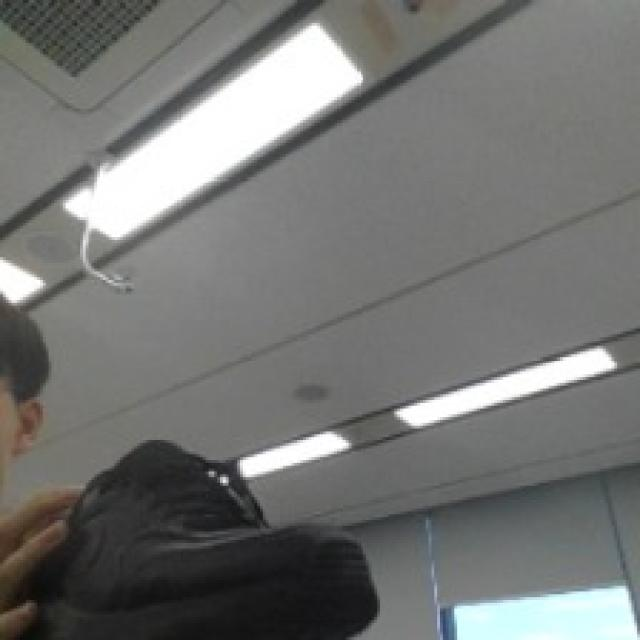shoe: (15, 409, 441, 640)
